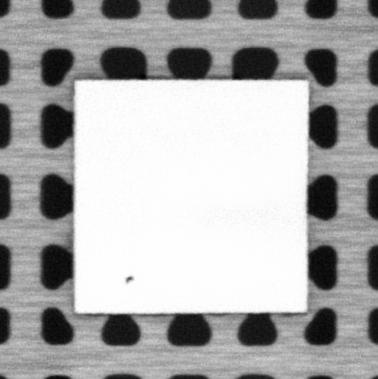DIE_INK: (123, 274, 136, 284)
